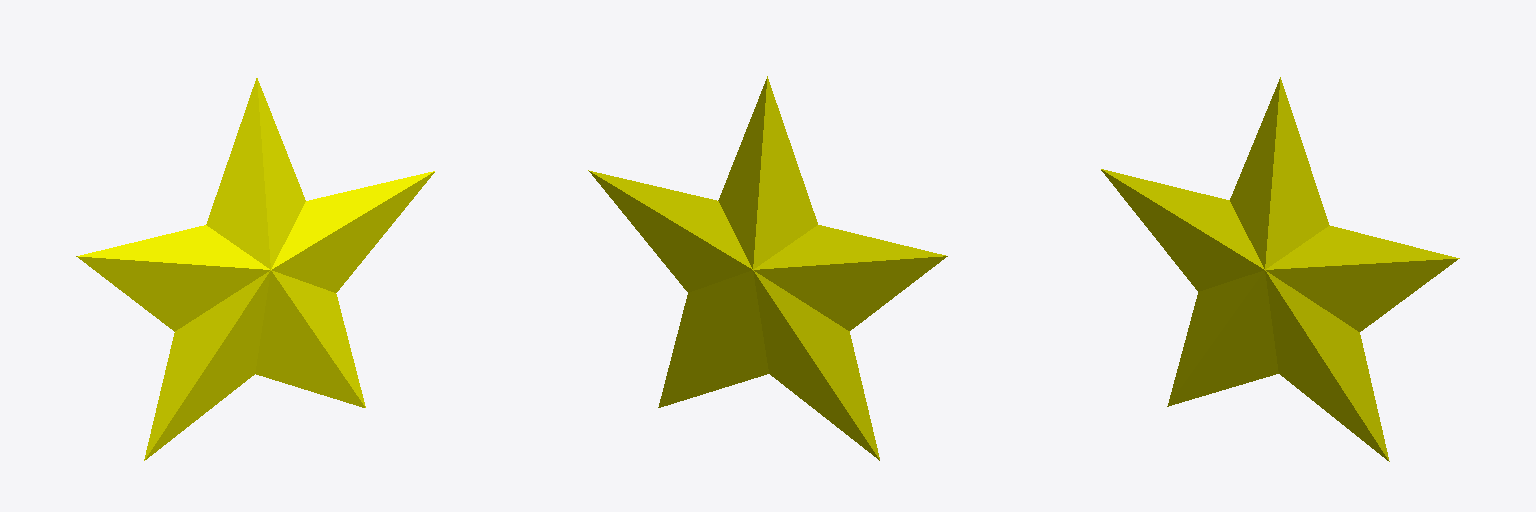
Rendered from star.obj.
The picture shows the model from 3 angles: view 1: azimuth 30°, elevation 25°; view 2: azimuth 150°, elevation 25°; view 3: azimuth 330°, elevation 25°; orthographic projection.
Visible parts, largest first — view 1: estrellica:pCylinder1; view 2: estrellica:pCylinder1; view 3: estrellica:pCylinder1.
Part boxes in pixels (x1,y1,x2,y2): estrellica:pCylinder1: (76,78,434,460); estrellica:pCylinder1: (588,76,947,460); estrellica:pCylinder1: (1101,77,1459,461).
Bounding box in the file's own units: 1.96 × 1.87 × 0.2837.